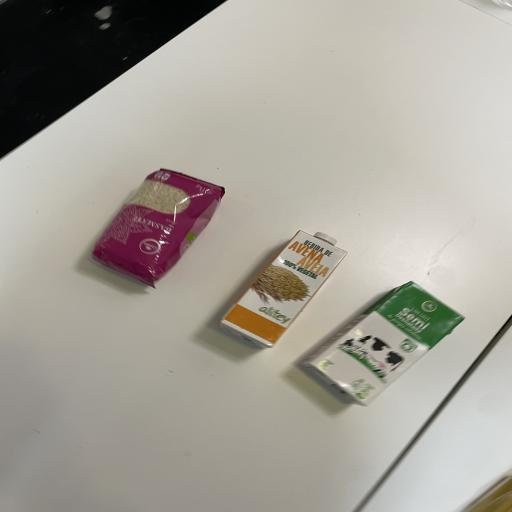milk: (305, 281, 467, 415)
oat_milk: (215, 225, 347, 351)
rice: (90, 164, 226, 288)
